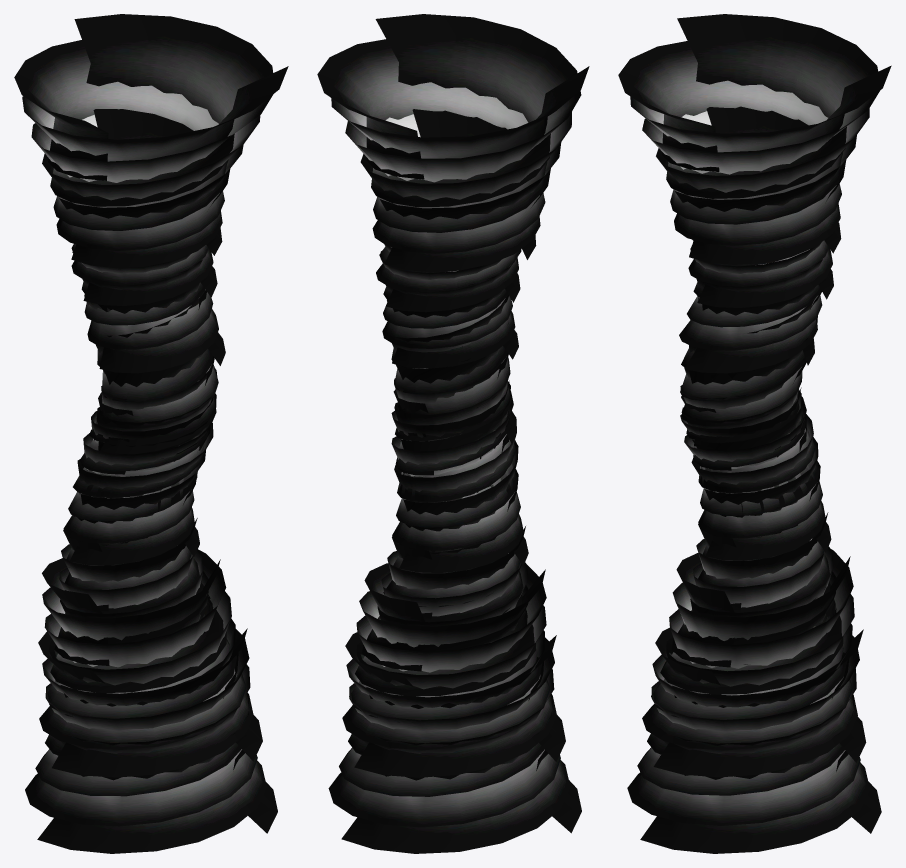
File: vfx_kurp_1189.dae
3 renders of one model, left to right at view 1: azimuth 30°, elevation 25°; view 2: azimuth 150°, elevation 25°; view 3: azimuth 270°, elevation 25°, orthographic.
Parts seen in each view (by area): view 1: vfx_kurp_1189; view 2: vfx_kurp_1189; view 3: vfx_kurp_1189.
Boxes of the visible parts, x1,y1,x2,y2 form: vfx_kurp_1189: [14, 14, 288, 853]; vfx_kurp_1189: [317, 14, 589, 853]; vfx_kurp_1189: [618, 14, 891, 853].
Bounding box in the file's own units: 11.24 × 11.62 × 34.75.
1 material, 1 textured.
